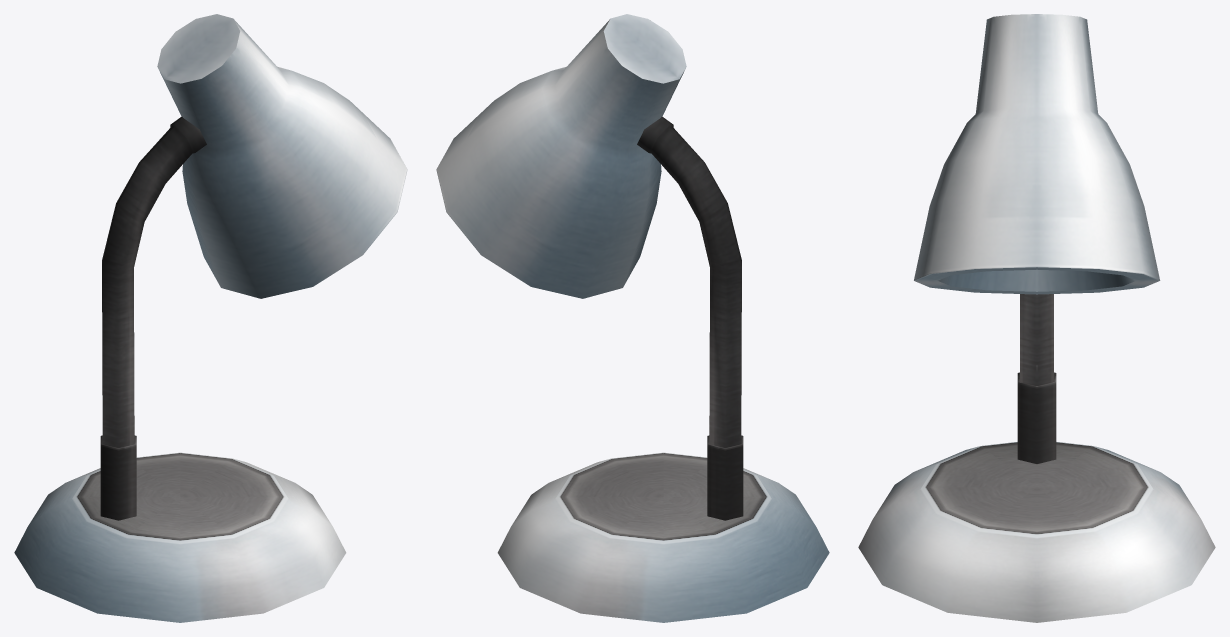
The model's file is ZhiBanShi_01_taideng_01_uv2.FBX.
3 renders of one model, left to right at view 1: azimuth 30°, elevation 25°; view 2: azimuth 150°, elevation 25°; view 3: azimuth 270°, elevation 25°, orthographic. The views are drawn at different scales.
Visible parts, largest first — view 1: ZhiBanShi_deng_02; view 2: ZhiBanShi_deng_02; view 3: ZhiBanShi_deng_02.
Part boxes in pixels (x1,y1,x2,y2): ZhiBanShi_deng_02: [14, 14, 407, 622]; ZhiBanShi_deng_02: [436, 14, 829, 622]; ZhiBanShi_deng_02: [858, 14, 1215, 622].
Size of the model in its own units: 134 by 189 by 109.
